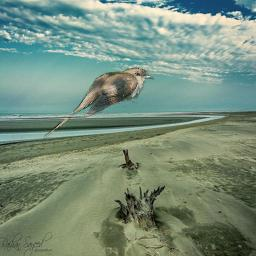Cuckoo: (44, 67, 154, 138)
